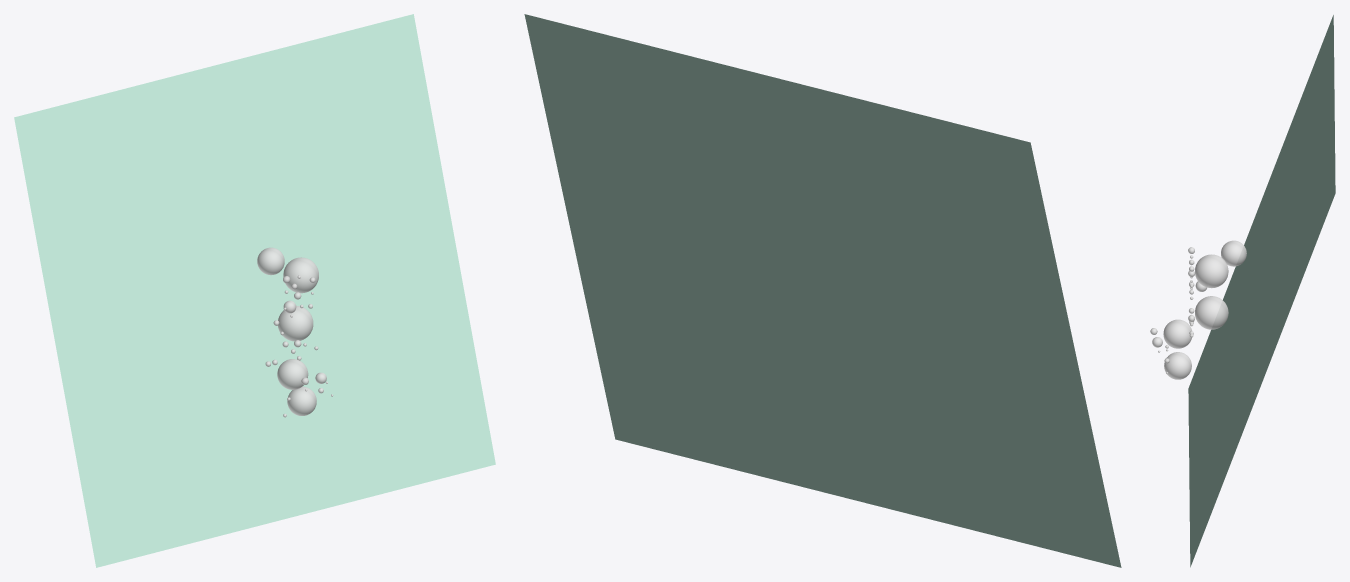
The picture shows the model from 3 angles, left to right: view 1: azimuth 30°, elevation 25°; view 2: azimuth 150°, elevation 25°; view 3: azimuth 270°, elevation 25°; orthographic projection. The views are drawn at different scales.
Parts seen in each view (by area): view 1: Plane, Sphere.033, Sphere.018, Sphere.009, Sphere, Sphere.034; view 2: Plane; view 3: Plane, Sphere.018, Sphere.033, Sphere.009, Sphere, Sphere.034.
Boxes of the visible parts, bbox=[...] form: Plane: bbox=[14, 14, 495, 567]; Sphere.033: bbox=[283, 257, 318, 293]; Sphere.018: bbox=[278, 305, 313, 341]; Sphere.009: bbox=[277, 359, 308, 389]; Sphere: bbox=[287, 386, 316, 415]; Sphere.034: bbox=[257, 247, 284, 275]; Plane: bbox=[524, 14, 1121, 567]; Plane: bbox=[1188, 15, 1335, 567]; Sphere.018: bbox=[1195, 296, 1228, 329]; Sphere.033: bbox=[1195, 254, 1228, 288]; Sphere.009: bbox=[1163, 319, 1191, 348]; Sphere: bbox=[1164, 352, 1191, 379]; Sphere.034: bbox=[1221, 240, 1246, 266].
Bounding box in the file's own units: 6.31 × 5.94 × 2.65.
